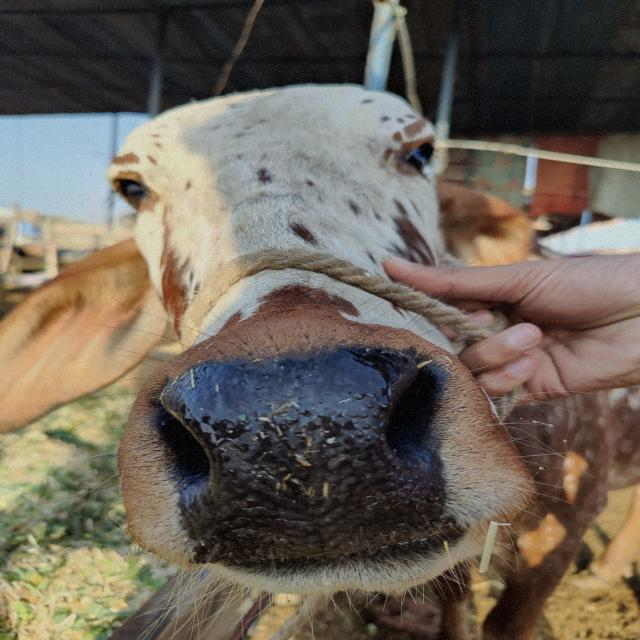muzzles: (137, 344, 474, 566)
